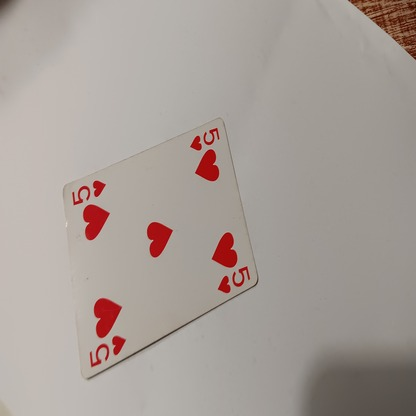5h: (88, 335, 127, 365), (217, 267, 250, 296), (70, 180, 106, 205), (189, 127, 220, 152)
